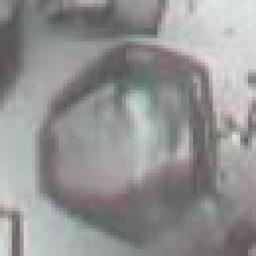crystals: (25, 30, 230, 248)
